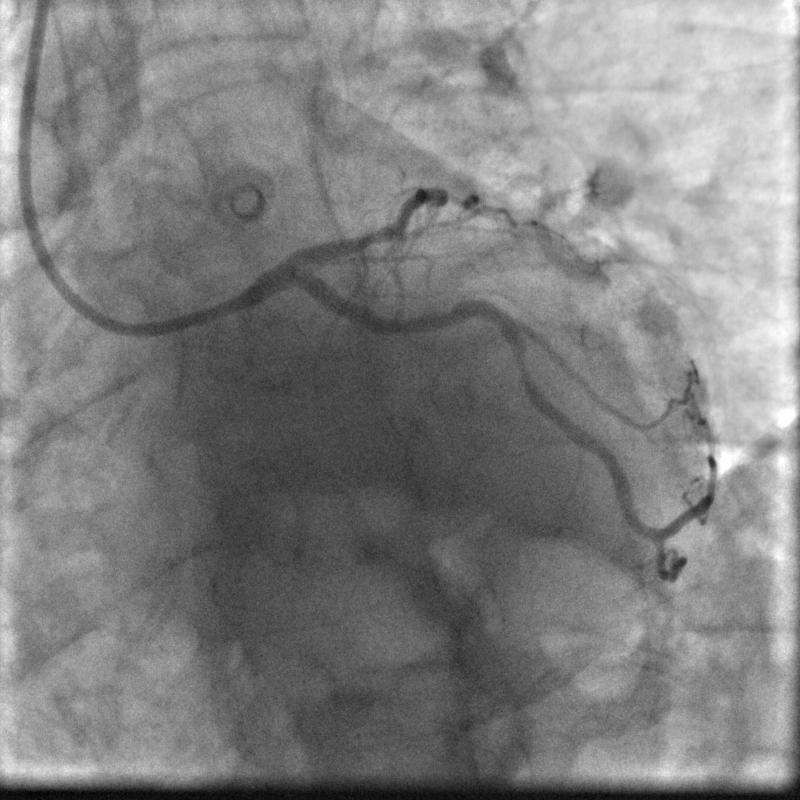Stenosis: (513, 350, 528, 377)
